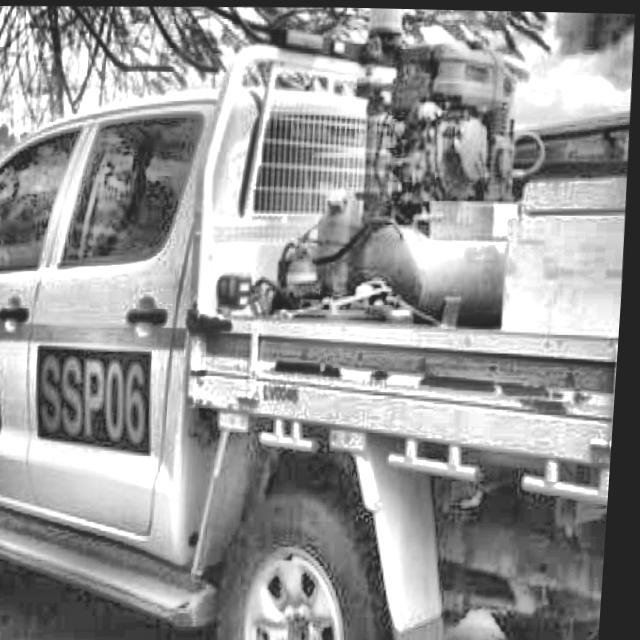light_vehicle: (0, 14, 639, 640)
